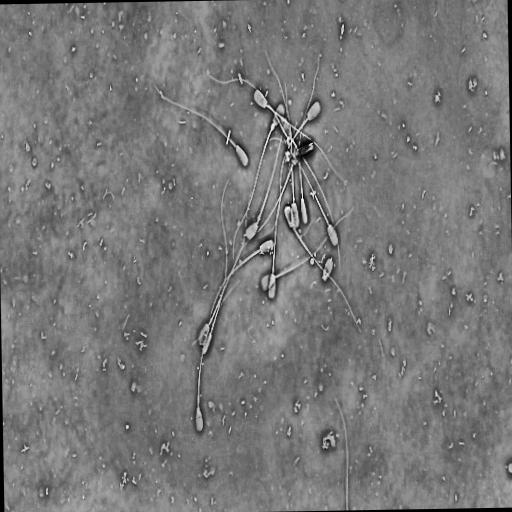dirt-particles: (295, 139, 315, 160)
loose-head: (321, 254, 335, 283)
loose-tail: (330, 392, 349, 510)
normal: (283, 202, 363, 337), (253, 87, 351, 190), (256, 98, 324, 242), (188, 237, 275, 348), (232, 101, 286, 266), (152, 80, 250, 170), (260, 205, 356, 293), (266, 135, 340, 248), (194, 274, 243, 435), (197, 204, 249, 348), (244, 77, 289, 243), (263, 47, 301, 231), (200, 173, 231, 357), (298, 49, 321, 226), (267, 194, 282, 301)
proximal-droplet: (271, 123, 275, 131)
